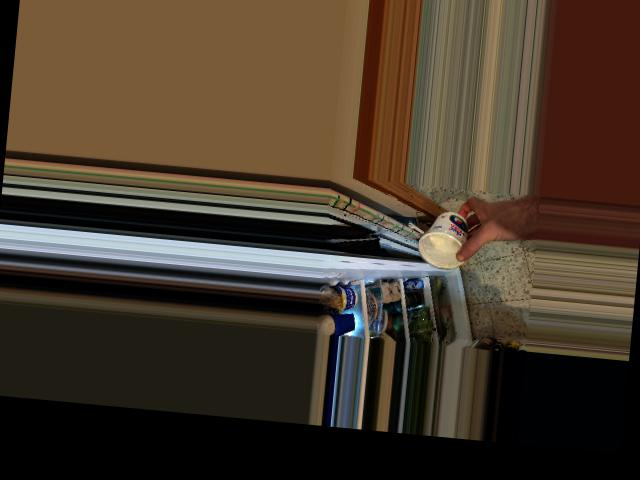cotage: (420, 209, 471, 269)
